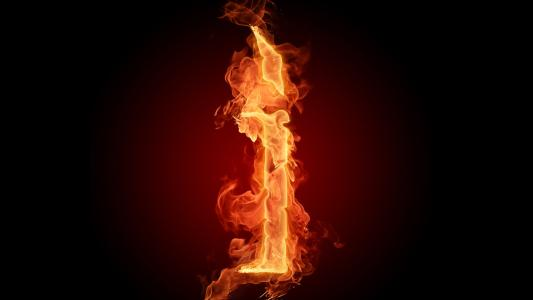fire: (230, 46, 311, 275)
